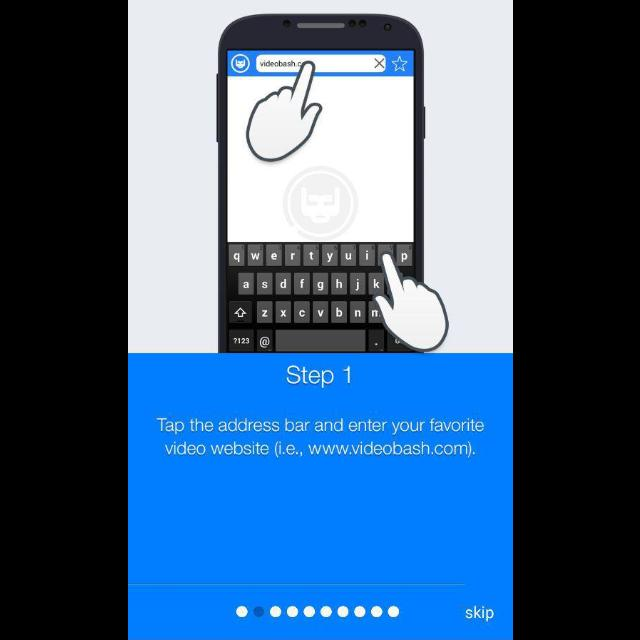image: (215, 14, 449, 352)
pageindicator: (235, 604, 399, 618)
text: (156, 418, 484, 460), (286, 365, 350, 389), (464, 606, 494, 622)
